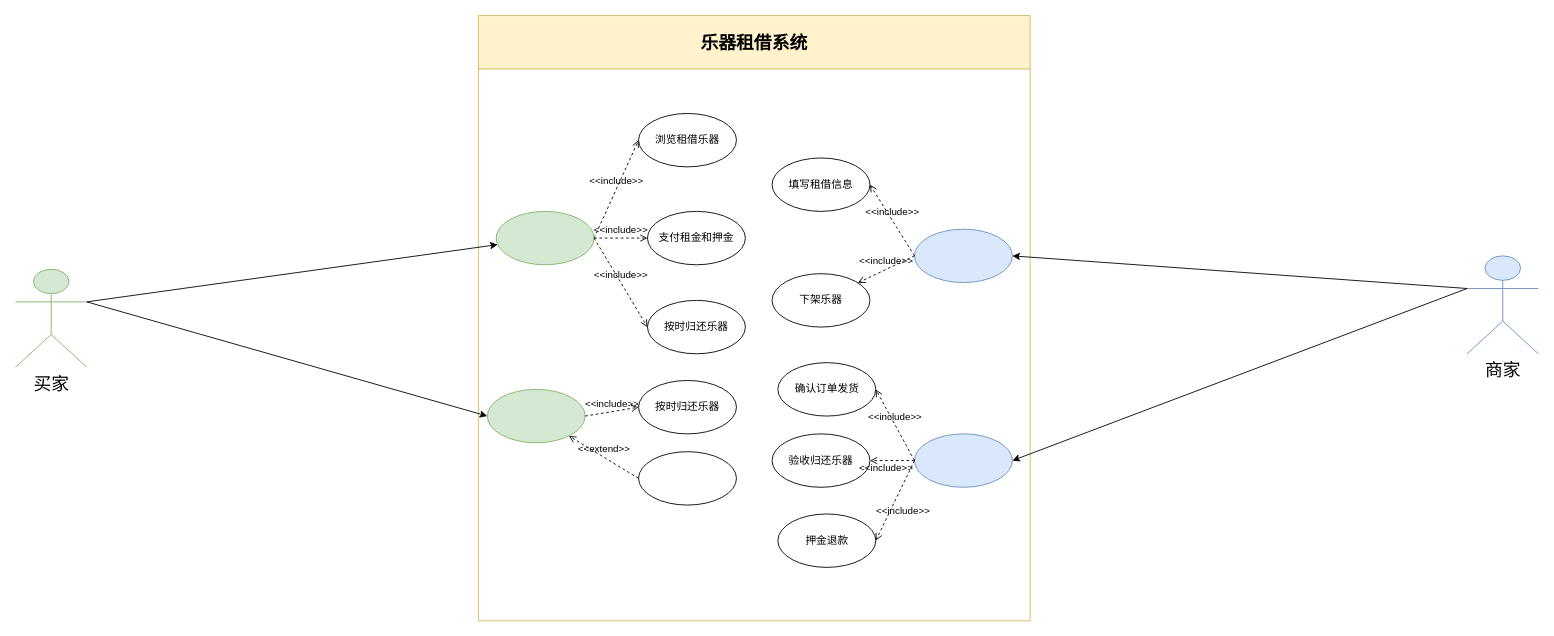
Image size: 1554x636. Some labels were removed from this diagram. Here are the shapes that lost their labels. From the top down, the centre of each, then its label:
the point at 544,237: 租借乐器
the point at 963,255: 上架租借乐器
the point at 535,415: 查看订单状态
the point at 687,478: 填写评价
the point at 963,460: 处理租借订单
